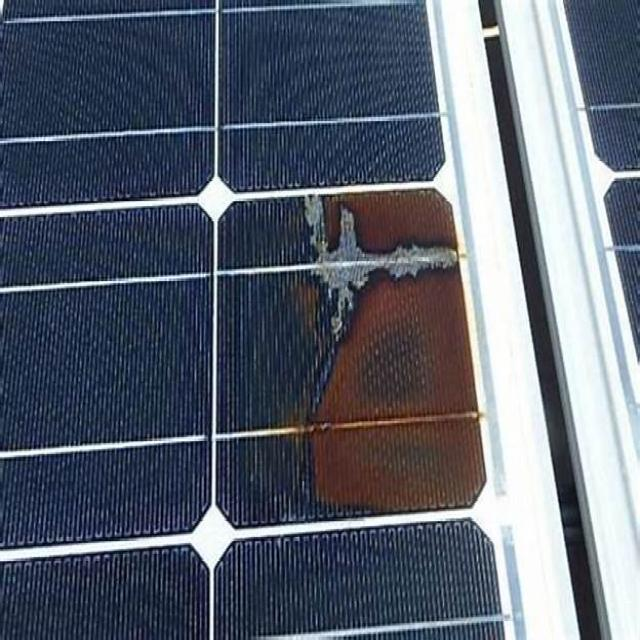Electrical-damage: (256, 176, 497, 513)
